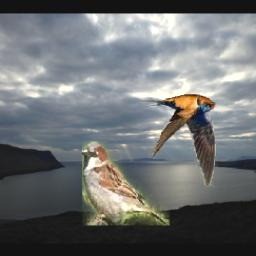Sparrow: (81, 141, 169, 225)
Swallow: (140, 95, 217, 188)
